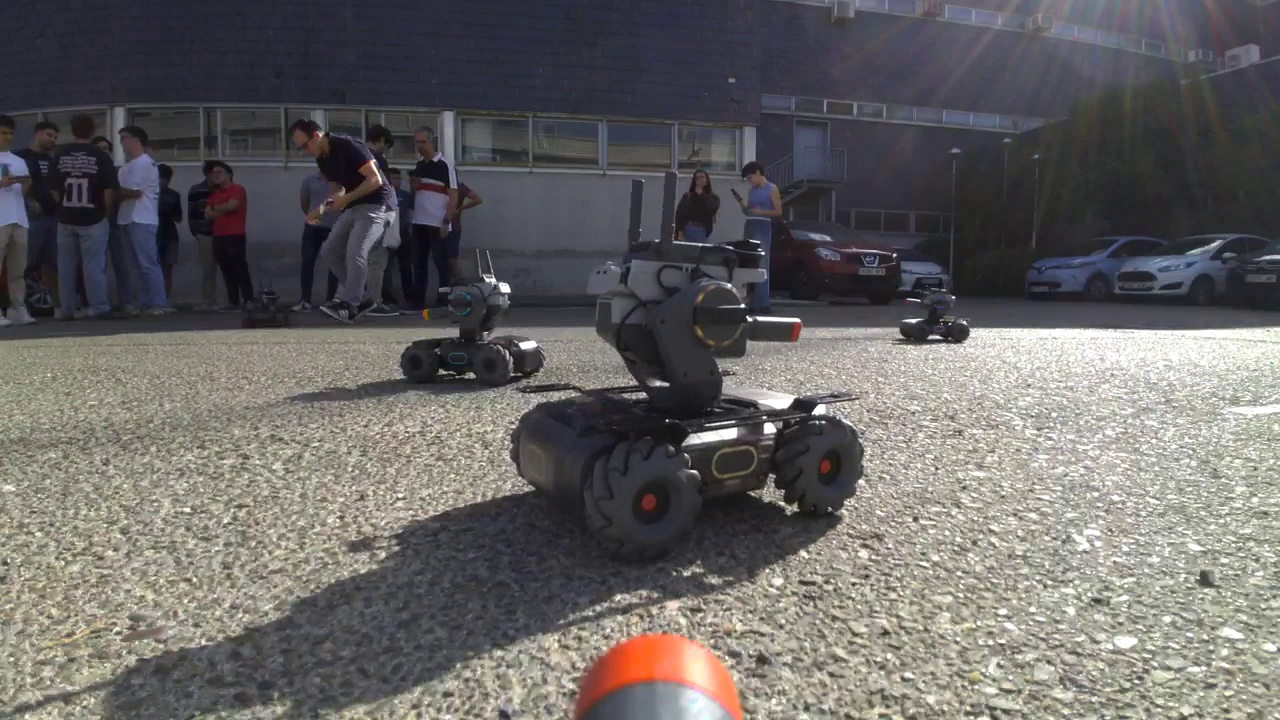robot: (510, 166, 868, 556), (398, 246, 551, 383), (896, 279, 972, 348), (242, 282, 289, 330)
